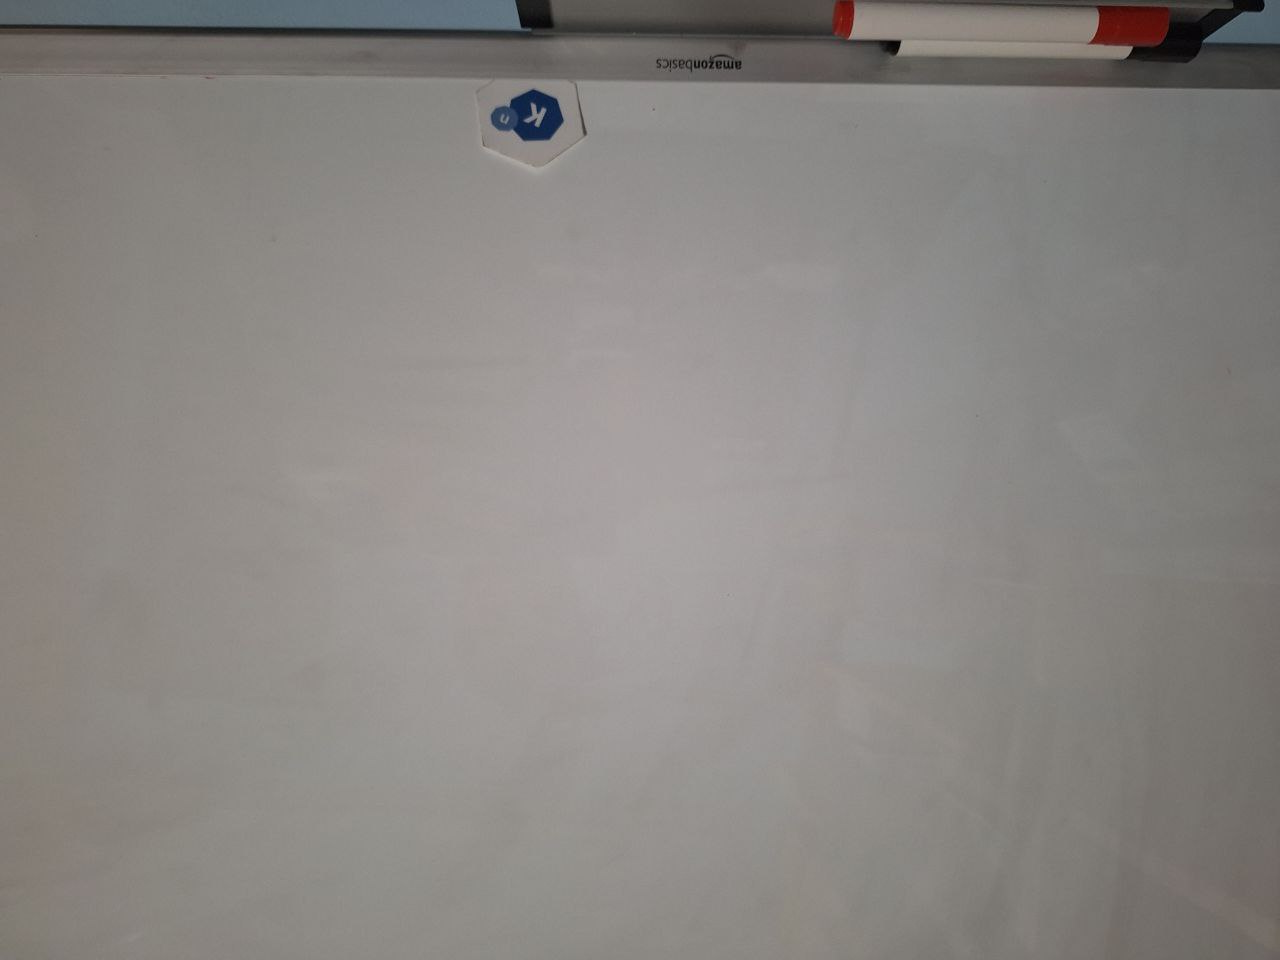knative: (487, 88, 567, 142)
